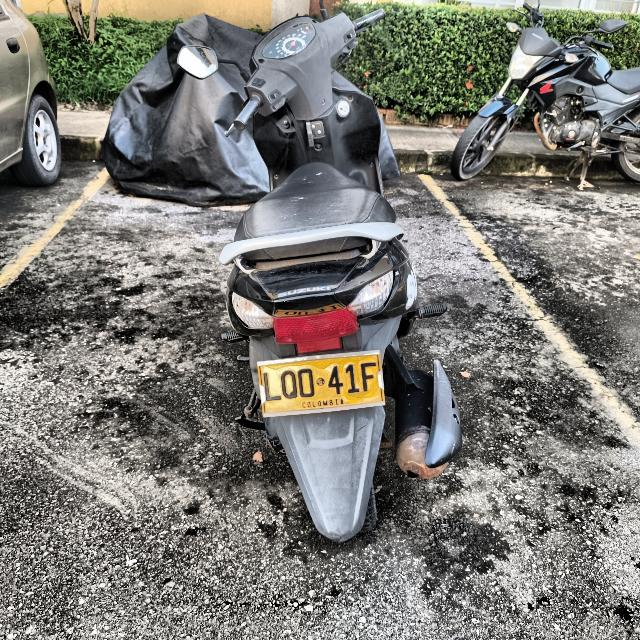plate: (257, 350, 387, 417)
